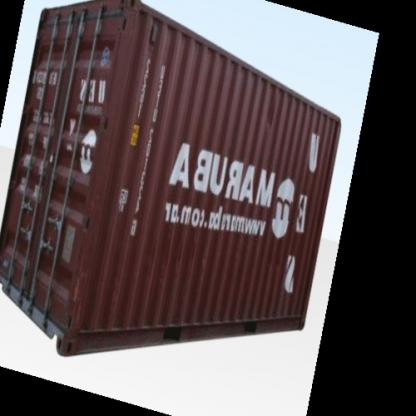Damage: (134, 202, 212, 280), (66, 233, 85, 325), (257, 91, 277, 133)
